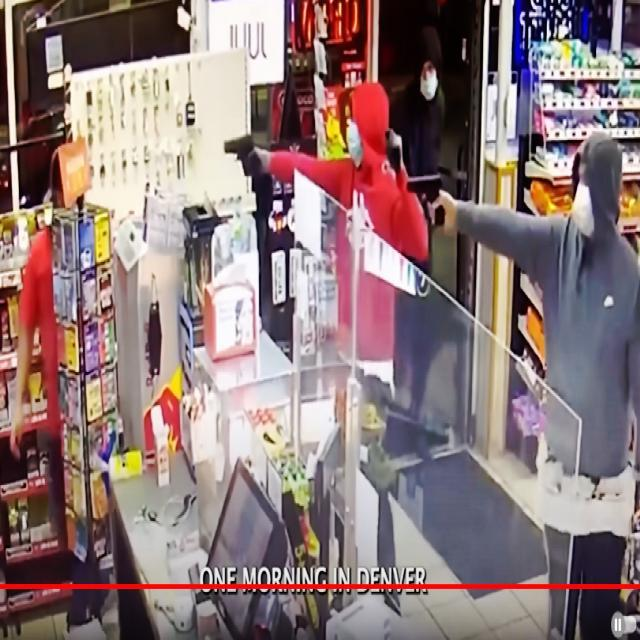Gun: (394, 161, 458, 229), (212, 127, 276, 185)
